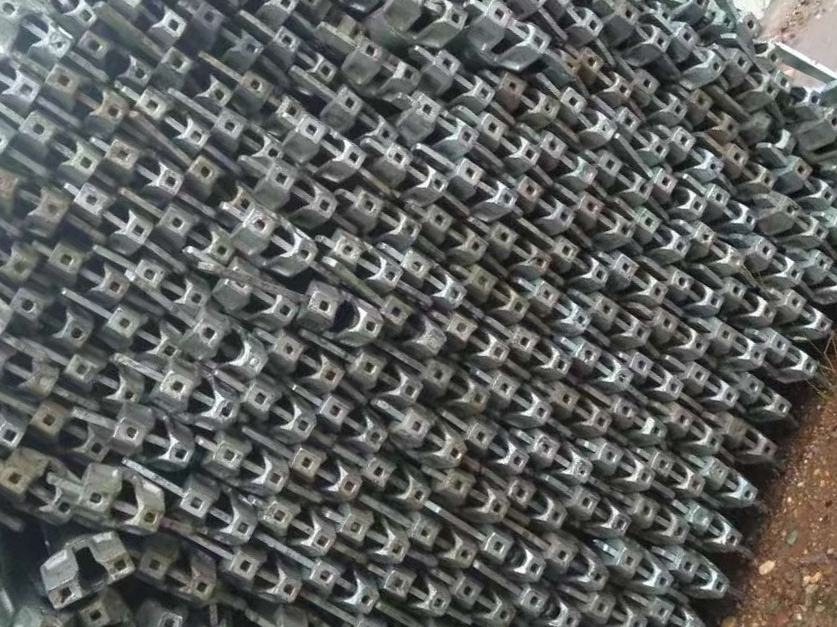THsquare_steel: (35, 547, 135, 607), (294, 288, 385, 335), (732, 10, 789, 66), (764, 66, 826, 116), (649, 169, 710, 216)
THsquare_steel_blocked: (8, 112, 99, 179), (178, 151, 258, 218), (98, 137, 187, 197), (68, 182, 150, 247), (38, 67, 126, 127), (203, 434, 291, 493), (41, 244, 131, 301), (230, 215, 319, 272), (130, 89, 213, 150), (249, 164, 338, 220), (466, 1, 550, 60), (365, 142, 450, 200), (149, 207, 235, 264), (339, 190, 425, 247), (25, 404, 109, 462), (177, 482, 259, 541), (74, 480, 165, 533), (184, 318, 269, 374), (6, 291, 92, 346), (201, 108, 288, 162), (341, 34, 423, 91), (149, 49, 233, 104), (399, 97, 480, 154), (418, 51, 496, 110), (384, 410, 466, 466), (156, 372, 241, 426), (60, 353, 144, 406), (326, 234, 404, 291), (221, 547, 303, 601), (292, 116, 369, 173), (106, 307, 182, 364), (137, 546, 216, 600), (240, 384, 319, 438), (189, 5, 265, 61), (271, 333, 346, 389), (288, 447, 364, 502), (260, 499, 335, 554), (314, 396, 390, 450), (471, 112, 544, 168), (303, 558, 380, 611), (334, 511, 414, 562), (265, 28, 340, 82), (1, 3, 73, 59), (3, 168, 67, 231), (345, 353, 425, 403), (418, 204, 492, 258), (231, 70, 306, 123), (438, 312, 510, 367), (379, 296, 446, 355), (403, 515, 476, 569), (488, 369, 557, 426), (435, 472, 512, 523), (442, 161, 519, 212), (400, 253, 471, 307), (131, 261, 209, 310), (471, 531, 549, 580), (418, 362, 490, 415), (117, 417, 194, 466), (541, 539, 613, 591), (446, 576, 519, 627), (556, 86, 619, 145), (462, 420, 530, 474), (380, 568, 453, 618), (457, 268, 530, 318), (572, 44, 635, 101), (3, 467, 72, 519), (604, 391, 673, 443), (361, 455, 428, 508), (509, 177, 577, 229), (609, 106, 671, 163), (564, 340, 636, 389), (483, 223, 552, 273), (592, 147, 653, 203), (641, 307, 712, 355), (526, 433, 594, 483), (608, 3, 672, 56), (535, 133, 599, 186), (382, 1, 471, 39), (603, 251, 669, 302), (587, 443, 657, 491), (622, 209, 692, 257), (607, 542, 674, 592), (568, 488, 635, 538), (512, 581, 584, 627), (661, 399, 722, 453), (575, 191, 637, 244), (627, 71, 690, 123), (623, 495, 692, 542), (700, 320, 768, 367), (497, 74, 563, 122), (529, 284, 592, 334), (504, 477, 568, 526), (740, 234, 804, 283), (678, 504, 743, 552), (681, 223, 746, 271), (511, 326, 572, 377), (547, 387, 614, 433), (668, 551, 732, 599), (676, 363, 741, 410), (753, 331, 818, 378), (722, 50, 781, 101), (588, 295, 652, 342), (699, 458, 759, 508), (642, 452, 708, 497), (668, 27, 725, 78), (619, 352, 683, 397), (718, 413, 779, 460), (775, 158, 837, 204), (117, 1, 188, 41), (657, 268, 723, 311), (773, 288, 832, 336), (732, 372, 792, 419), (553, 237, 608, 288), (576, 589, 647, 627), (687, 91, 743, 139), (768, 199, 827, 243), (717, 145, 776, 188), (667, 128, 722, 174), (695, 185, 755, 227), (721, 280, 779, 322), (642, 596, 710, 627), (558, 1, 604, 43), (1, 65, 42, 110), (1, 241, 40, 284), (805, 252, 837, 287)
